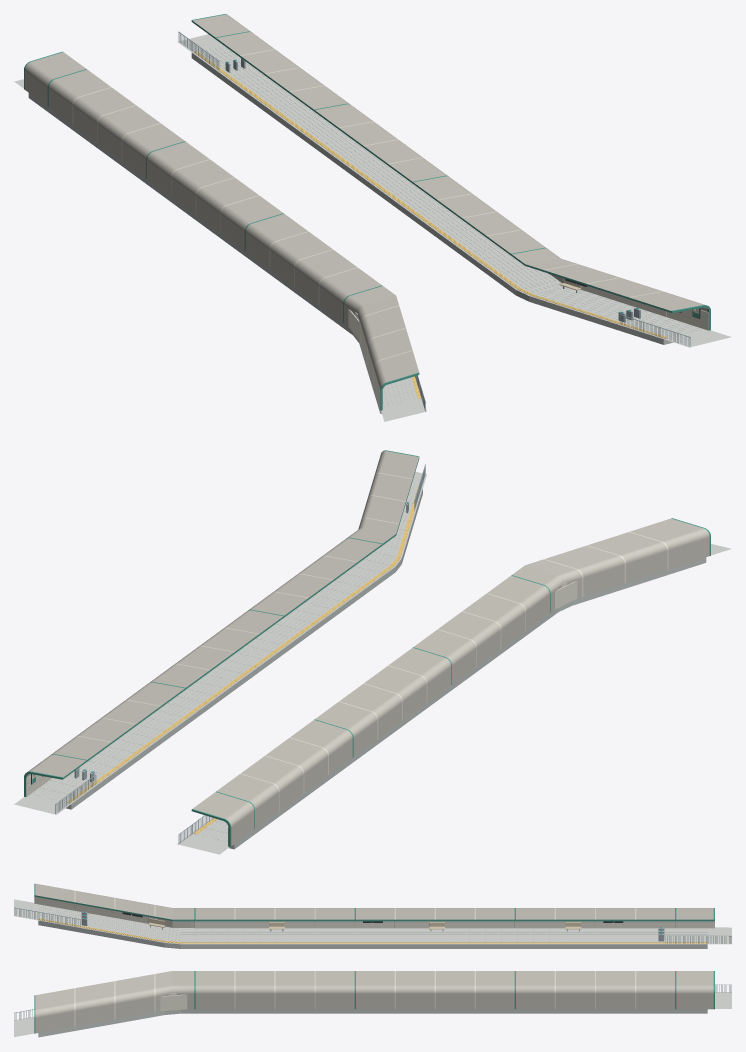
Rendered from station-A1.glb.
3 views of the same model, one above another, from view 1: azimuth 30°, elevation 25°; view 2: azimuth 150°, elevation 25°; view 3: azimuth 270°, elevation 25° (orthographic). The views are drawn at different scales.
Parts seen in each view (by area): view 1: A1_platform_-1_roof, A1_platform_1_roof, A1_platform_1_tile, A1_platform_1_concrete, A1_platform_-1_concrete, A1_platform_1_yellow, A1_platform_1_cladding, A1_platform_-1_tile, A1_platform_-1_cladding, A1_platform_-1_accent; view 2: A1_platform_-1_roof, A1_platform_1_roof, A1_platform_1_tile, A1_platform_-1_concrete, A1_platform_1_concrete, A1_platform_1_yellow, A1_platform_-1_cladding, A1_platform_-1_tile, A1_platform_1_cladding, A1_platform_-1_accent; view 3: A1_platform_1_roof, A1_platform_-1_tile, A1_platform_-1_roof, A1_platform_-1_cladding, A1_platform_-1_concrete, A1_platform_1_concrete, A1_platform_-1_yellow, A1_platform_1_cladding, A1_platform_1_tile, A1_platform_-1_sand, A1_platform_-1_panel, A1_platform_1_accent (+2 smaller).
Part boxes in pixels (box(x1,y1,x2,y2)): A1_platform_-1_roof: box(24, 52, 418, 408); A1_platform_1_roof: box(192, 14, 707, 312); A1_platform_1_tile: box(177, 34, 731, 347); A1_platform_1_concrete: box(191, 53, 673, 344); A1_platform_-1_concrete: box(28, 93, 381, 413); A1_platform_1_yellow: box(193, 51, 697, 338); A1_platform_1_cladding: box(240, 49, 708, 330); A1_platform_-1_tile: box(14, 79, 426, 421); A1_platform_-1_cladding: box(72, 87, 412, 409); A1_platform_-1_accent: box(24, 51, 419, 410); A1_platform_-1_roof: box(192, 518, 709, 845); A1_platform_1_roof: box(26, 451, 419, 778); A1_platform_1_tile: box(14, 471, 426, 814); A1_platform_-1_concrete: box(229, 557, 706, 849); A1_platform_1_concrete: box(66, 489, 422, 809); A1_platform_1_yellow: box(33, 486, 418, 803); A1_platform_-1_cladding: box(228, 531, 668, 846); A1_platform_-1_tile: box(177, 544, 731, 854); A1_platform_1_cladding: box(26, 472, 412, 797); A1_platform_-1_accent: box(191, 518, 710, 846); A1_platform_1_roof: box(35, 971, 713, 1033); A1_platform_-1_tile: box(14, 899, 731, 944); A1_platform_-1_roof: box(35, 883, 713, 927); A1_platform_-1_cladding: box(34, 890, 714, 928); A1_platform_-1_concrete: box(38, 920, 707, 948); A1_platform_1_concrete: box(38, 1009, 707, 1037); A1_platform_-1_yellow: box(38, 918, 707, 943); A1_platform_1_cladding: box(74, 971, 636, 1026); A1_platform_1_tile: box(14, 992, 731, 1037); A1_platform_-1_sand: box(148, 918, 581, 929); A1_platform_-1_panel: box(35, 898, 714, 927); A1_platform_1_accent: box(34, 971, 714, 1033).
Bounding box in the file's own units: 40.73 × 3.8 × 89.64.
